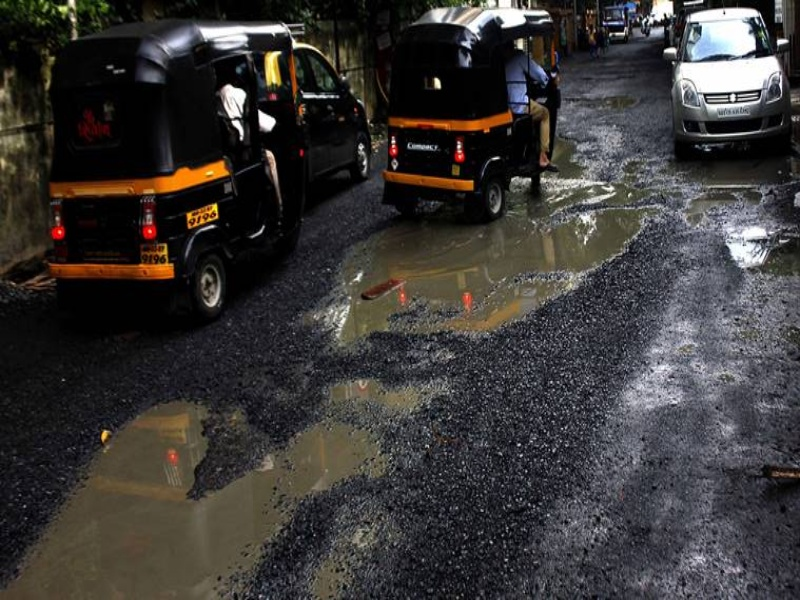pothole: (5, 363, 446, 600), (324, 200, 657, 343), (659, 153, 797, 188), (681, 187, 747, 223), (744, 187, 764, 216)
